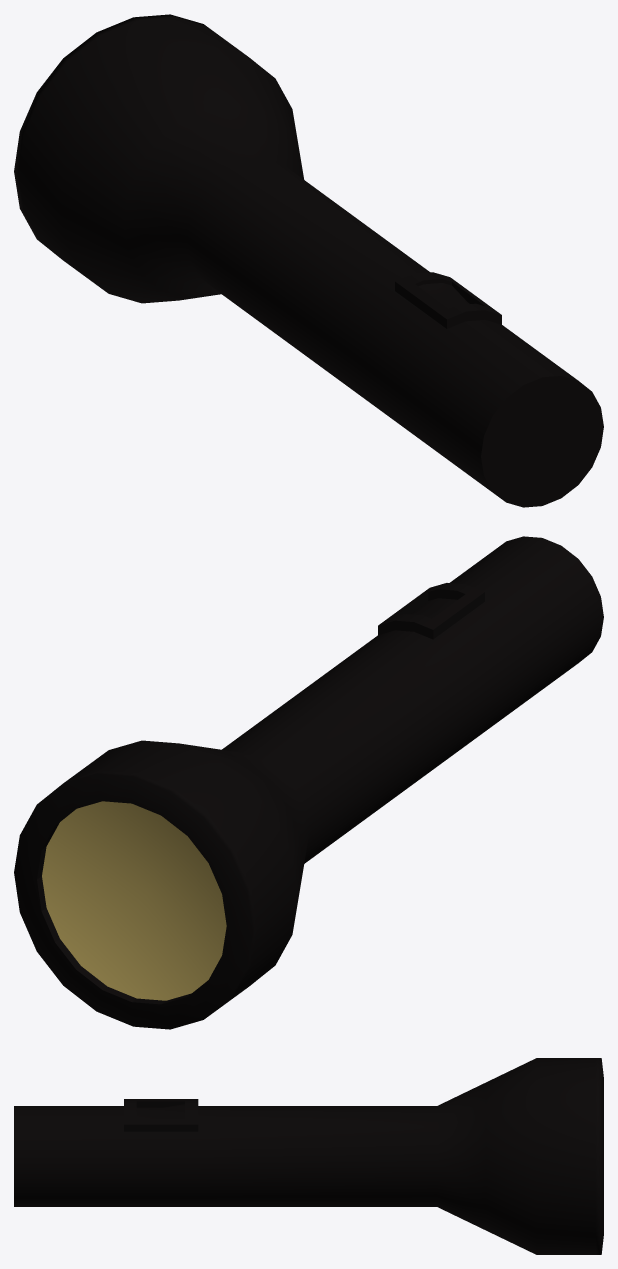
Rendered from lampe_neu.obj.
3 renders of one model, top to bottom at view 1: azimuth 30°, elevation 25°; view 2: azimuth 150°, elevation 25°; view 3: azimuth 270°, elevation 25°, orthographic. The views are drawn at different scales.
Parts seen in each view (by area): view 1: pCylinder1; view 2: pCylinder1; view 3: pCylinder1.
Boxes of the visible parts, left/top/right/bottom form: pCylinder1: left=14, top=14, right=603, bottom=507; pCylinder1: left=14, top=536, right=603, bottom=1029; pCylinder1: left=14, top=1058, right=603, bottom=1254.
Bounding box in the file's own units: 3.88 × 3.88 × 11.56.
